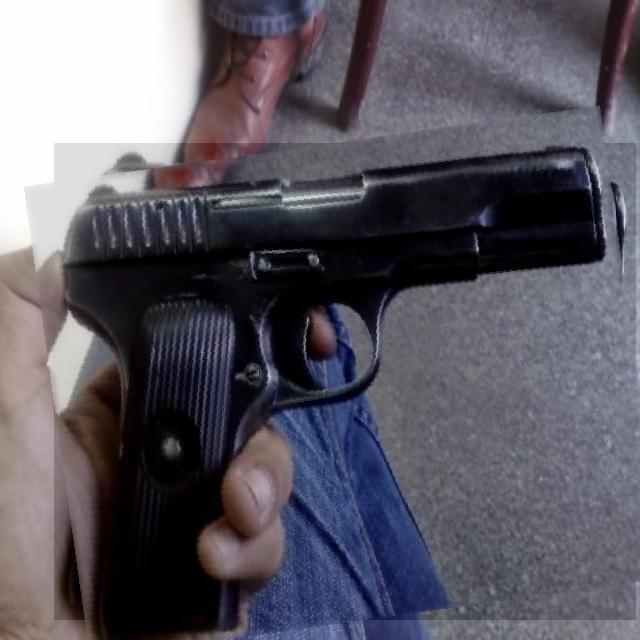handgun: (39, 124, 640, 639)
